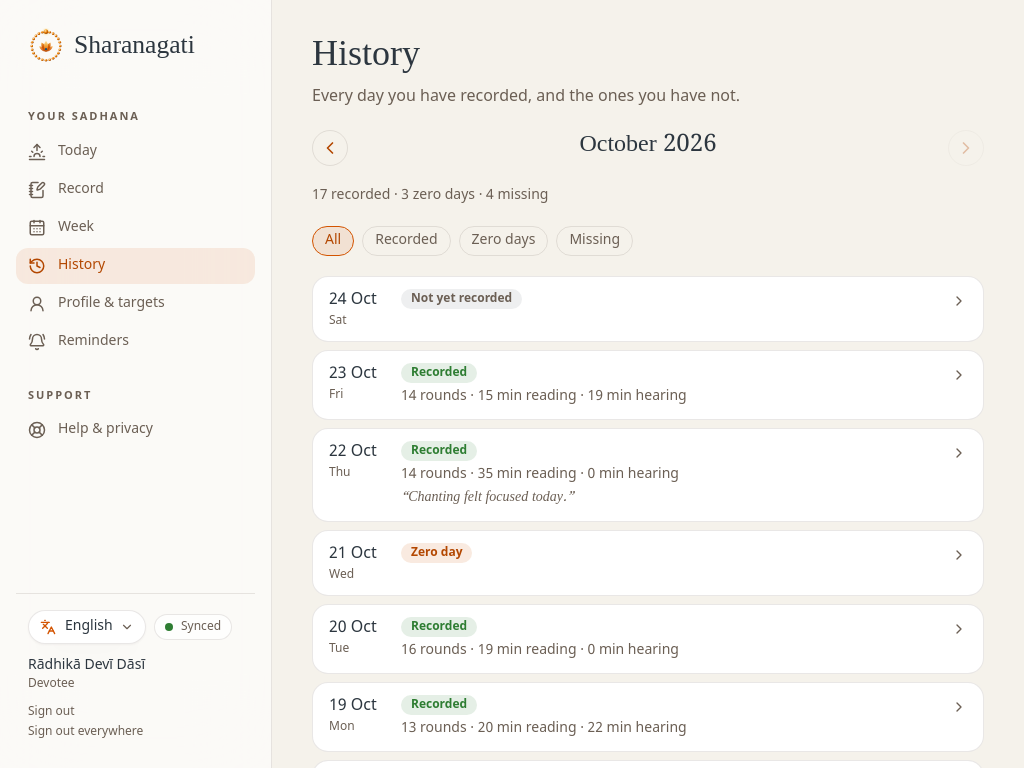
it: HistoryScreen › moves to the previous month
Click the button named "Previous month". click: (330, 148)
box: [312,130,348,166]
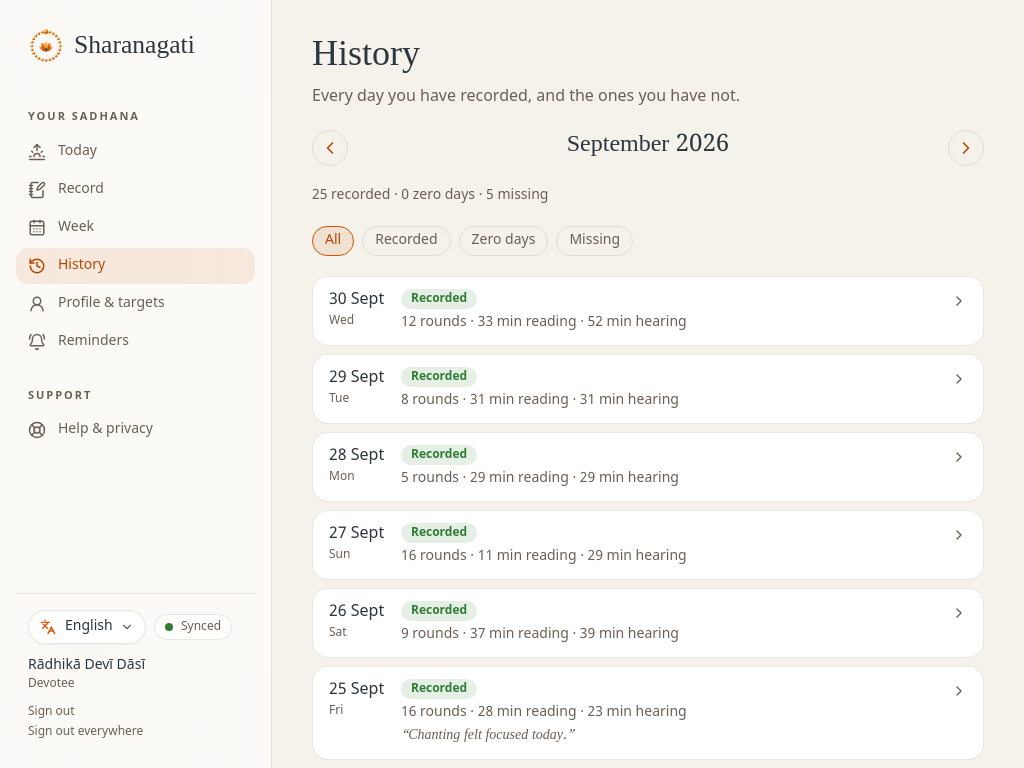
Now the heading "September 2026" is shown, box [567,132,729,164]
